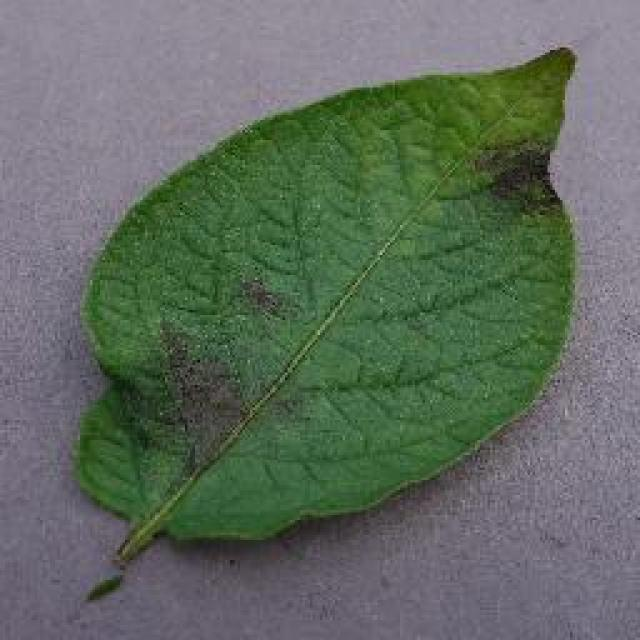late_blight: (68, 40, 582, 562)
